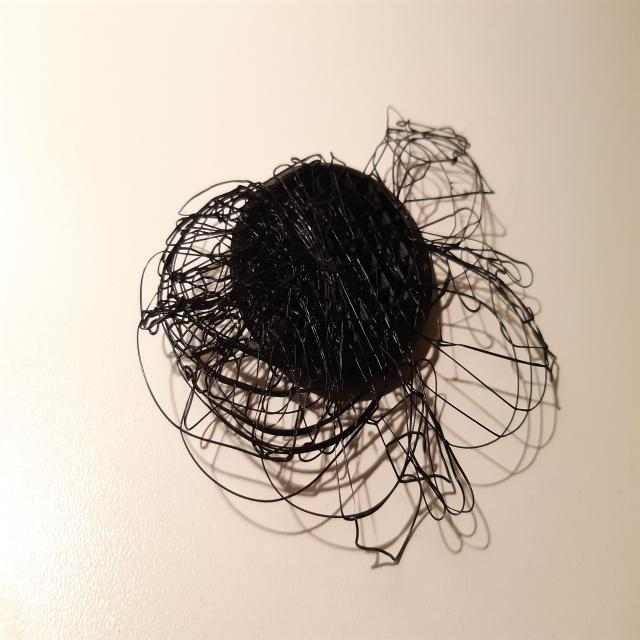Spaghetti: (137, 109, 557, 562)
